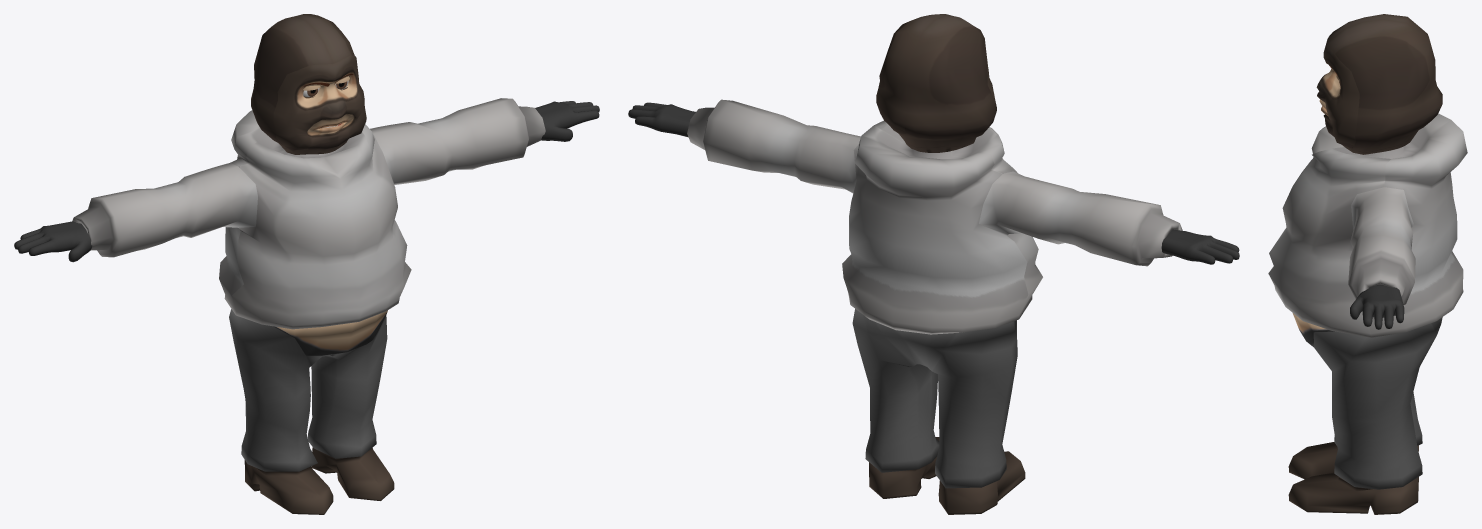
Rendered from robber.glb.
3 renders of one model, left to right at view 1: azimuth 30°, elevation 25°; view 2: azimuth 150°, elevation 25°; view 3: azimuth 270°, elevation 25°, orthographic. The views are drawn at different scales.
Parts seen in each view (by area): view 1: Cylinder, Circle; view 2: Cylinder, Circle; view 3: Cylinder, Circle.
Part boxes in pixels (x1,y1,x2,y2): Cylinder: (14,98,599,514); Circle: (251,14,366,154); Cylinder: (628,99,1239,514); Circle: (876,14,996,152); Cylinder: (1268,113,1467,514); Circle: (1316,14,1442,154).
Size of the model in its own units: 6.51 by 4.86 by 1.88.
Materials: 2 (2 with a texture image).
